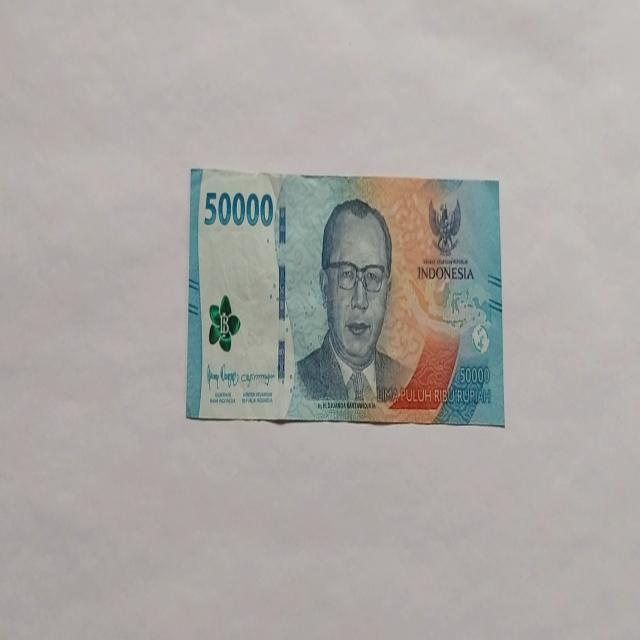lima puluh ribu rupiah: (186, 167, 504, 427), (288, 196, 414, 414)
